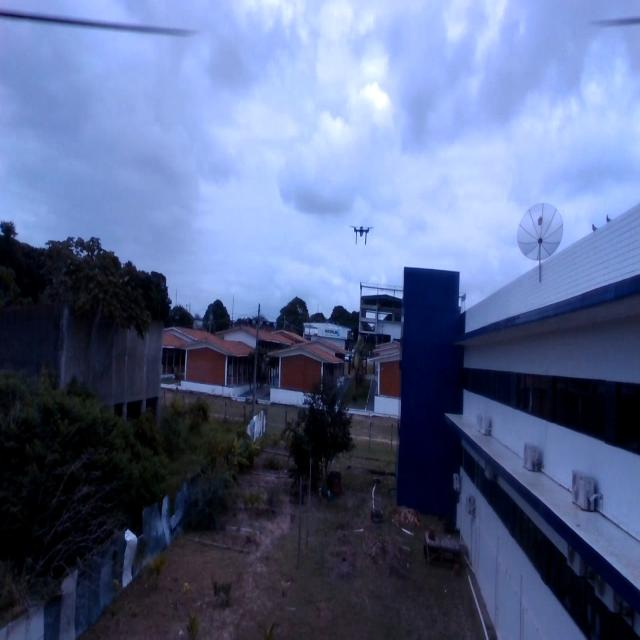-uav-: (346, 218, 376, 252)
